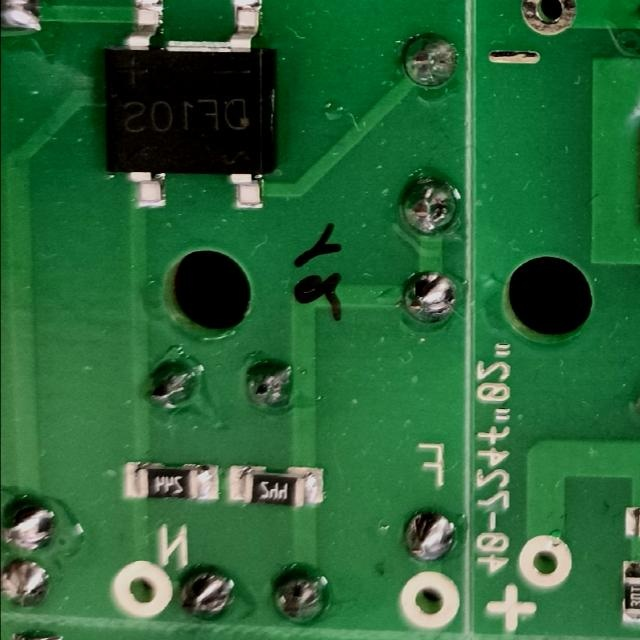chip-resistor: (225, 463, 328, 505), (121, 462, 222, 502), (619, 558, 640, 627)
ic: (101, 0, 281, 213)
